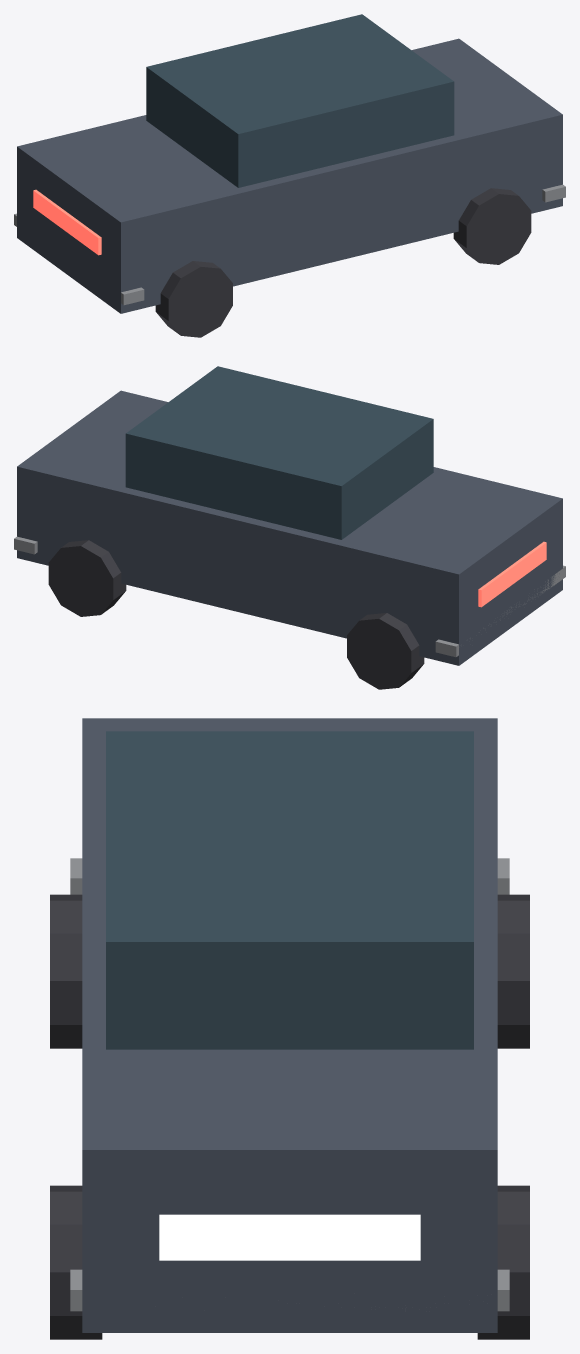
Rendered from vehicle_sedan.glb.
3 views of the same model, one above another, from view 1: azimuth 30°, elevation 25°; view 2: azimuth 150°, elevation 25°; view 3: azimuth 270°, elevation 25° (orthographic). The views are drawn at different scales.
Parts seen in each view (by area): view 1: Cube, Cube.001, Cylinder, Cylinder.001, Cube.005; view 2: Cube, Cube.001, Cylinder.002, Cylinder.003, Cube.005, Cube.003; view 3: Cube, Cube.001, Cube.004, Cylinder.001, Cylinder.003, Cylinder, Cylinder.002, Cube.002, Cube.003.
Boxes of the visible parts, left/top/right/bottom form: Cube: left=17, top=38, right=562, bottom=313; Cube.001: left=146, top=14, right=454, bottom=187; Cylinder: left=453, top=188, right=531, bottom=264; Cylinder.001: left=155, top=261, right=232, bottom=337; Cube.005: left=33, top=189, right=101, bottom=255; Cube: left=17, top=390, right=562, bottom=665; Cube.001: left=125, top=366, right=433, bottom=539; Cylinder.002: left=48, top=540, right=126, bottom=616; Cylinder.003: left=347, top=613, right=424, bottom=689; Cube.005: left=478, top=541, right=546, bottom=607; Cube.003: left=435, top=565, right=565, bottom=657; Cube: left=82, top=718, right=497, bottom=1332; Cube.001: left=106, top=731, right=473, bottom=1049; Cube.004: left=159, top=1214, right=420, bottom=1260; Cylinder.001: left=50, top=894, right=82, bottom=1048; Cylinder.003: left=497, top=894, right=529, bottom=1048; Cylinder: left=50, top=1185, right=102, bottom=1339; Cylinder.002: left=477, top=1185, right=529, bottom=1339; Cube.002: left=70, top=1269, right=509, bottom=1311; Cube.003: left=70, top=858, right=509, bottom=894.
Bounding box in the file's own units: 4.36 × 1.68 × 2.02.
